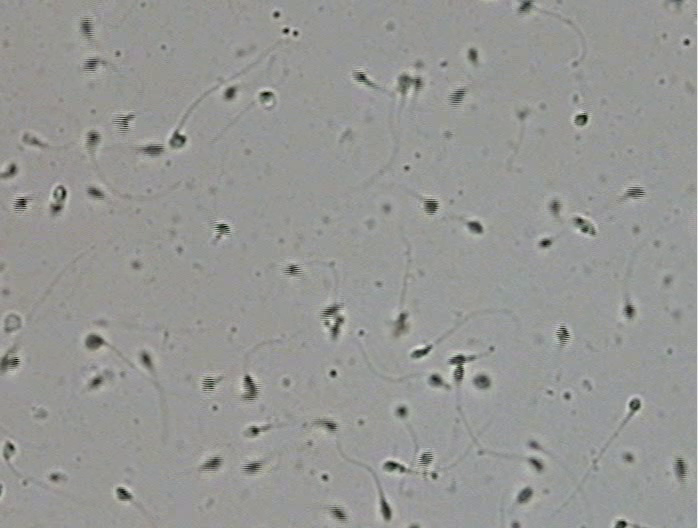S: (241, 374, 259, 402), (328, 315, 345, 341), (573, 217, 596, 236), (113, 115, 133, 134), (328, 505, 348, 523), (79, 17, 95, 39), (448, 88, 466, 107), (201, 456, 222, 472), (674, 457, 688, 479), (85, 130, 101, 149), (1, 355, 20, 371), (85, 334, 104, 350), (241, 461, 262, 475), (556, 325, 570, 346), (169, 132, 187, 148), (423, 198, 439, 216), (397, 74, 412, 93), (379, 498, 391, 521), (82, 57, 99, 73), (418, 450, 434, 467), (142, 144, 164, 156), (320, 305, 340, 318), (12, 197, 27, 214), (201, 376, 216, 393), (52, 185, 67, 202), (410, 346, 431, 358), (518, 487, 533, 503), (528, 457, 544, 472), (626, 187, 646, 199), (116, 487, 133, 501), (474, 374, 491, 388), (213, 223, 231, 236), (2, 442, 15, 460), (395, 312, 407, 331), (86, 187, 104, 199), (284, 264, 302, 276), (321, 420, 337, 433), (467, 221, 483, 234), (351, 70, 367, 83), (453, 363, 464, 381), (428, 374, 443, 387), (623, 304, 636, 319), (574, 113, 588, 126), (259, 91, 274, 103), (224, 86, 236, 101), (448, 355, 467, 364), (518, 1, 532, 13), (244, 426, 259, 437), (413, 75, 423, 91), (629, 398, 641, 411), (140, 352, 151, 366), (6, 164, 17, 177), (89, 377, 102, 388), (395, 406, 408, 417), (549, 199, 560, 212), (49, 204, 62, 214), (468, 49, 478, 62), (383, 461, 397, 470), (538, 239, 552, 248), (528, 440, 539, 450), (614, 520, 627, 528)
